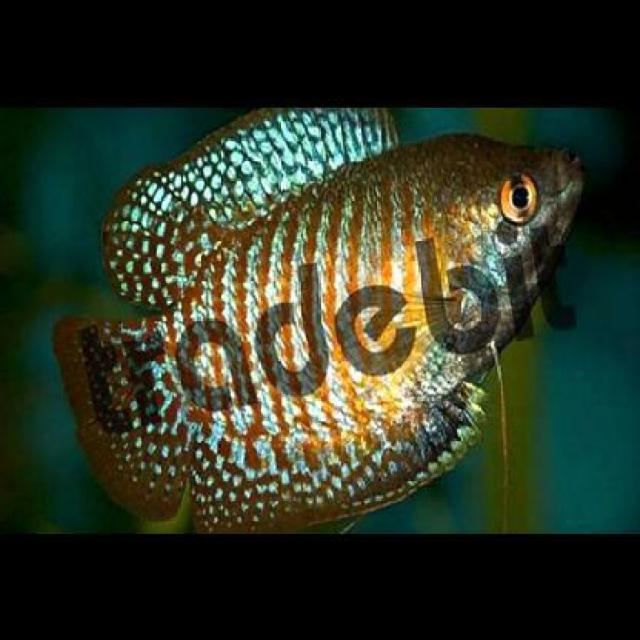Gourami: (48, 106, 586, 532)
